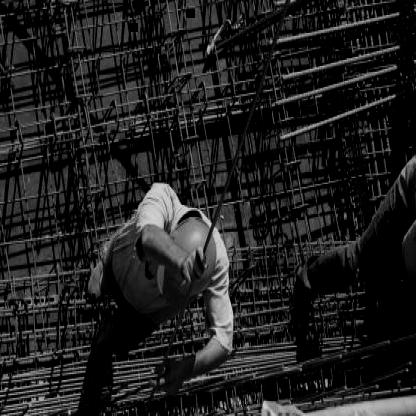helmet: (154, 214, 222, 308)
